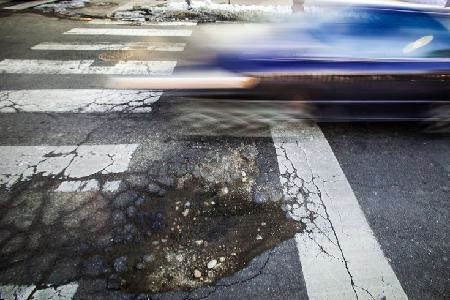pothole: (109, 176, 299, 295)
